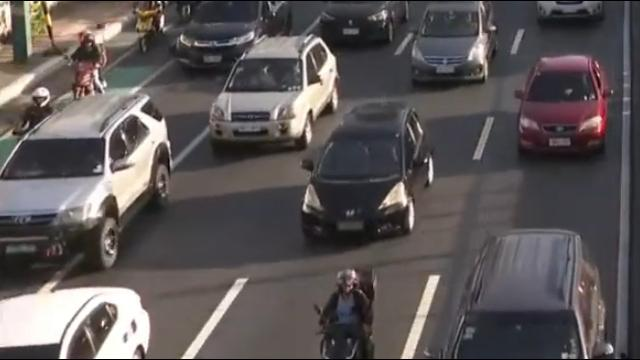car: (0, 94, 172, 270), (430, 226, 620, 360), (296, 101, 435, 245), (202, 27, 347, 154), (0, 271, 171, 360), (508, 47, 614, 167), (403, 0, 508, 89), (173, 0, 297, 72), (315, 1, 412, 42)
motorcycle: (309, 265, 380, 360), (67, 26, 110, 101), (13, 85, 57, 145), (132, 0, 166, 53)
